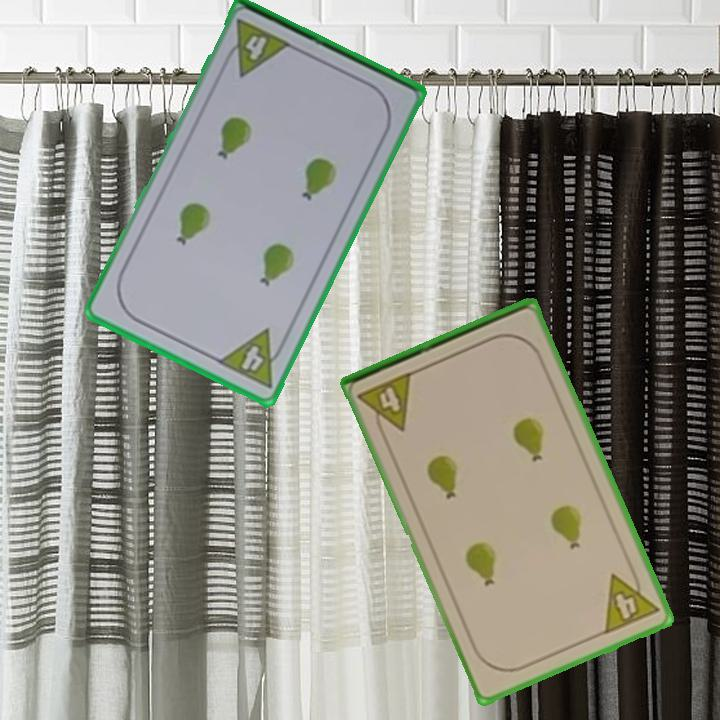4p: (214, 325, 291, 391), (219, 16, 294, 80), (600, 562, 662, 638), (354, 368, 416, 441)
